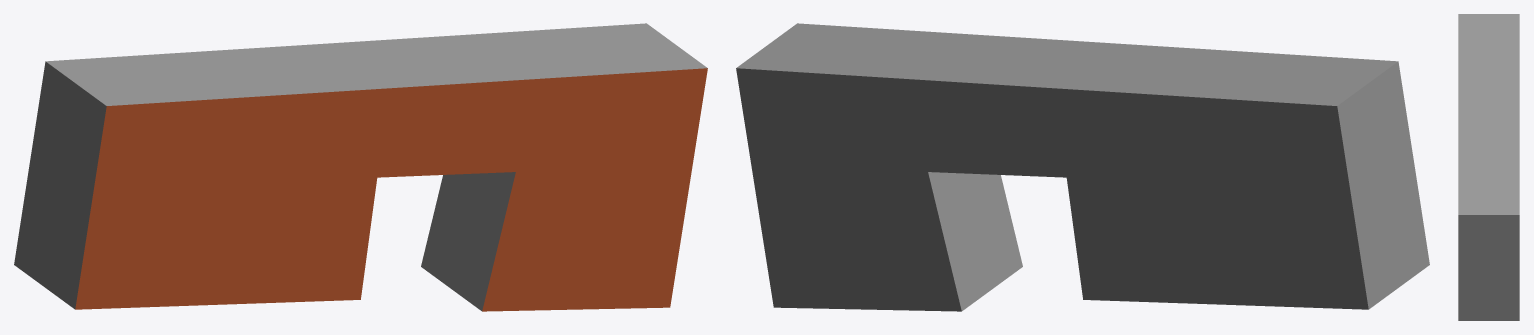
File: construction_2890_assumed_A_Casa_h6m.obj
The picture shows the model from 3 angles, left to right: view 1: azimuth 30°, elevation 25°; view 2: azimuth 150°, elevation 25°; view 3: azimuth 270°, elevation 25°; orthographic projection. The views are drawn at different scales.
Parts seen in each view (by area): view 1: construction_2890_assumed_A_Casa; view 2: construction_2890_assumed_A_Casa; view 3: construction_2890_assumed_A_Casa.
Boxes of the visible parts, left/top/right/bottom form: construction_2890_assumed_A_Casa: left=14, top=23, right=707, bottom=311; construction_2890_assumed_A_Casa: left=736, top=23, right=1429, bottom=311; construction_2890_assumed_A_Casa: left=1458, top=14, right=1519, bottom=320.
Bounding box in the file's own units: 35.79 × 18.33 × 6.
